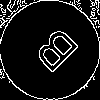B: (25, 25, 81, 81)
